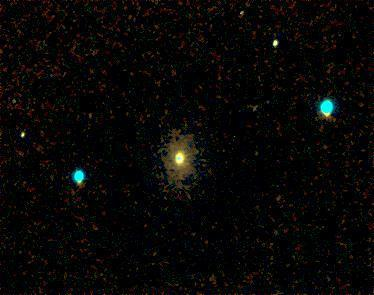star: (266, 180, 296, 210)
